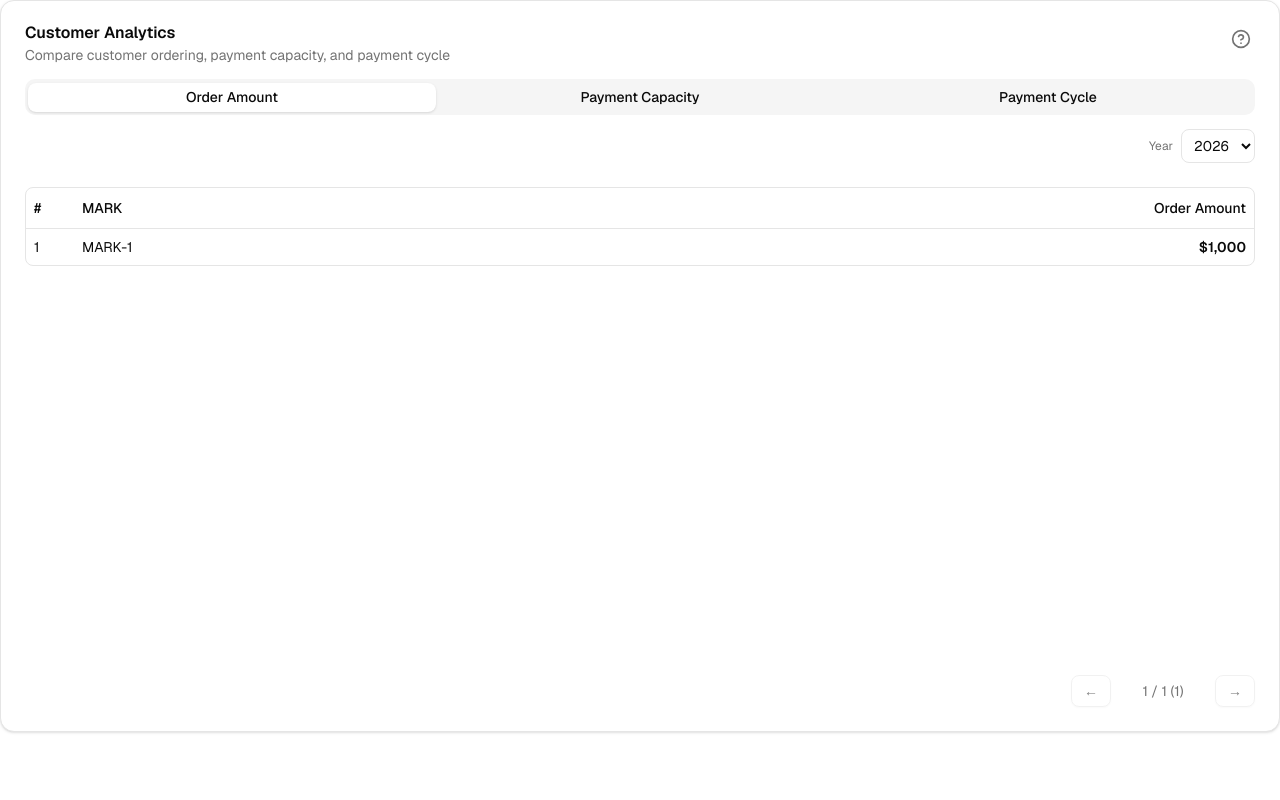
Test: CustomerAnalyticsCard › ignores a stale annual response when years are switched quickly
Expected: the row named "Open analytics detail for Initial 2026" is shown, [26, 228, 1254, 264]
Select "2025" in the dropdown named "Analysis year": {"x": 1218, "y": 146} [1181, 129, 1255, 163]
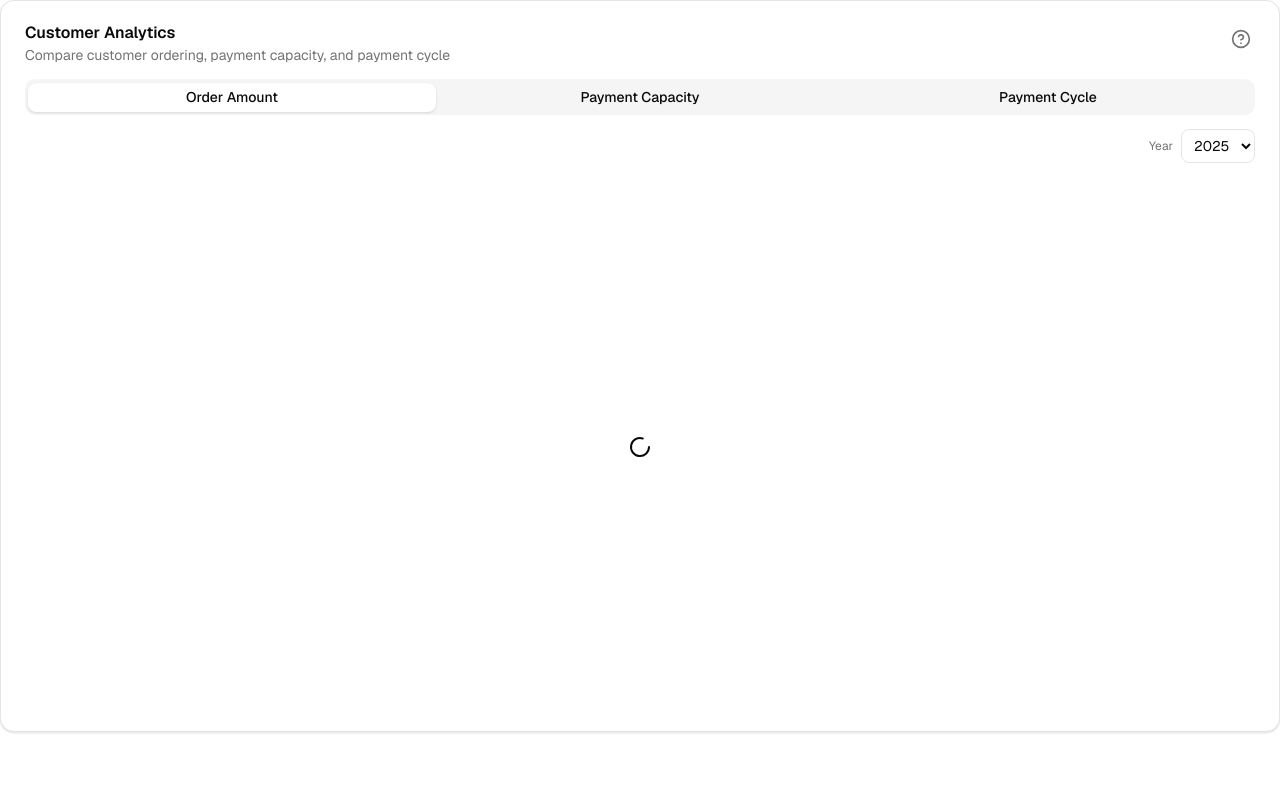
Select "2026" in the dropdown named "Analysis year": {"x": 1218, "y": 146} [1181, 129, 1255, 163]
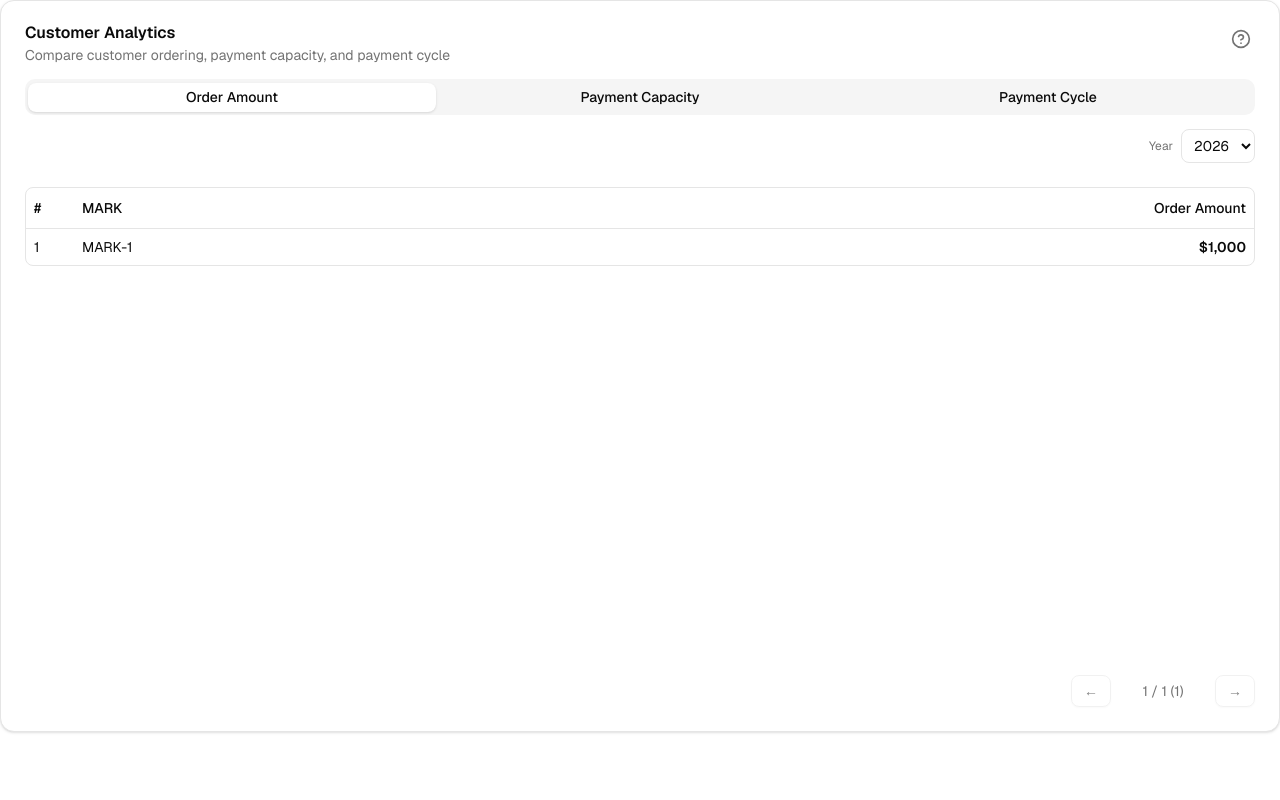
Expected: the row named "Open analytics detail for Current 2026" is shown, [26, 228, 1254, 264]
